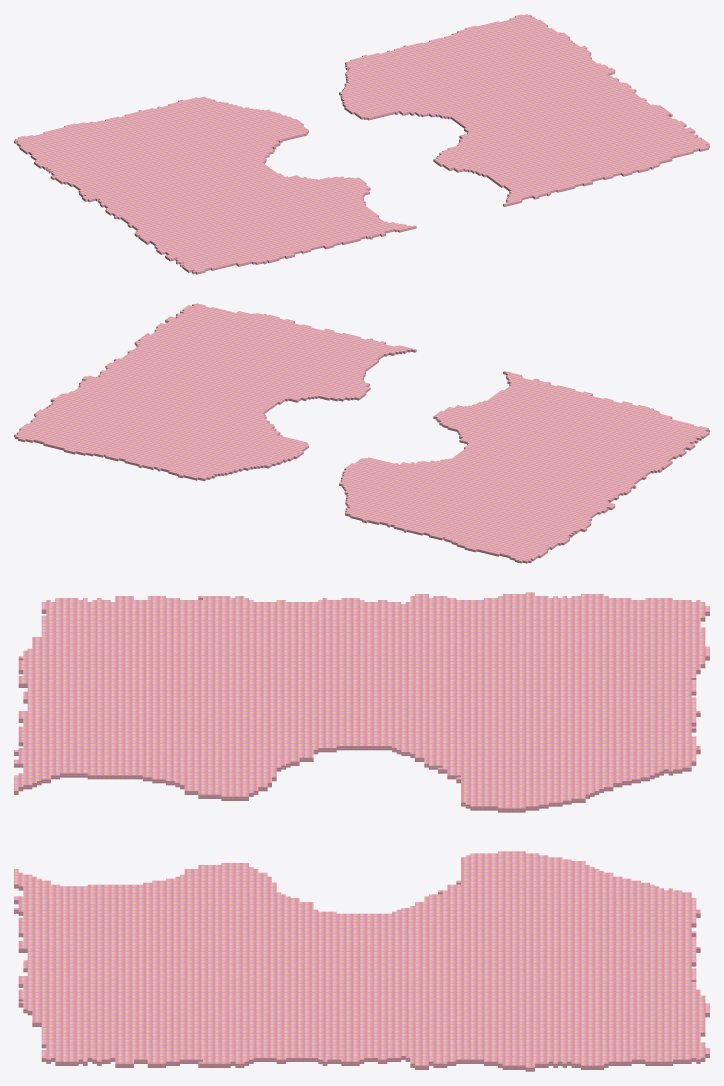
File: LRground_3x3mapping.FBX
The picture shows the model from 3 angles, top to bottom: view 1: azimuth 30°, elevation 25°; view 2: azimuth 150°, elevation 25°; view 3: azimuth 270°, elevation 25°; orthographic projection. The views are drawn at different scales.
Visible parts, largest first — view 1: LRground_mapping3x3; view 2: LRground_mapping3x3; view 3: LRground_mapping3x3.
Part boxes in pixels (left/top/right/bottom): LRground_mapping3x3: left=14, top=14, right=709, bottom=274; LRground_mapping3x3: left=14, top=303, right=709, bottom=563; LRground_mapping3x3: left=14, top=592, right=709, bottom=1071.
Size of the model in its own units: 244 by 151 by 1.
